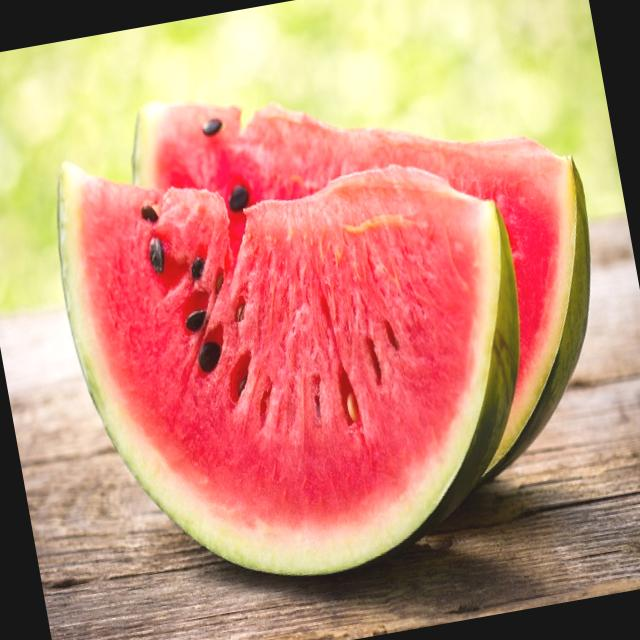dua hau: (59, 165, 518, 573), (132, 105, 590, 472)
